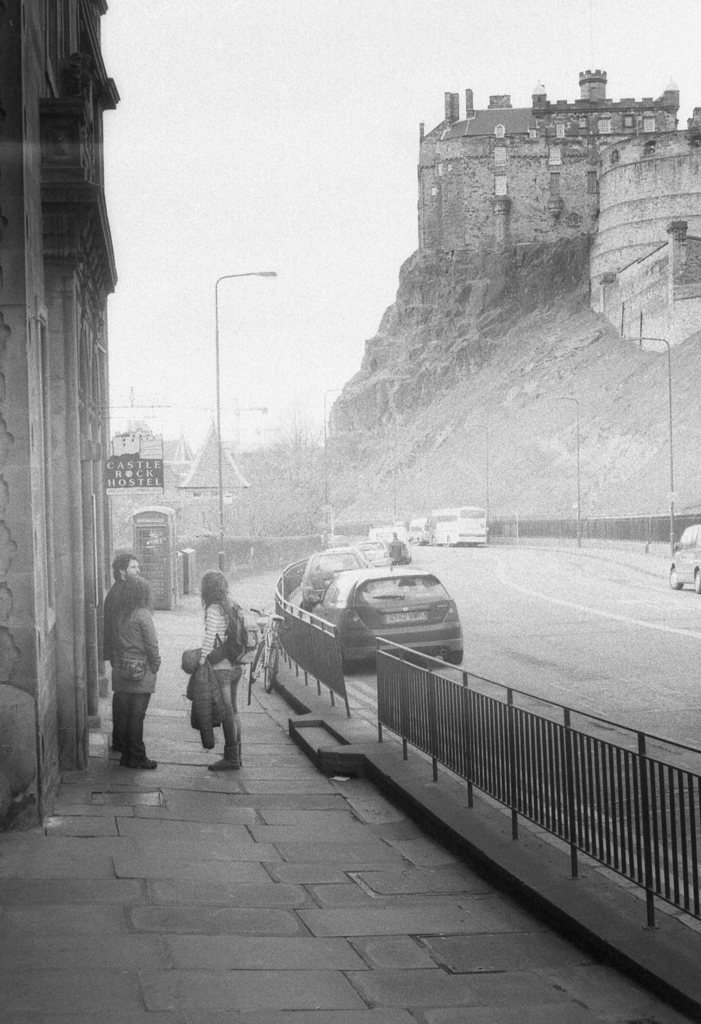Car: (306, 554, 464, 675), (295, 545, 374, 610), (668, 521, 700, 595), (354, 536, 392, 567)
